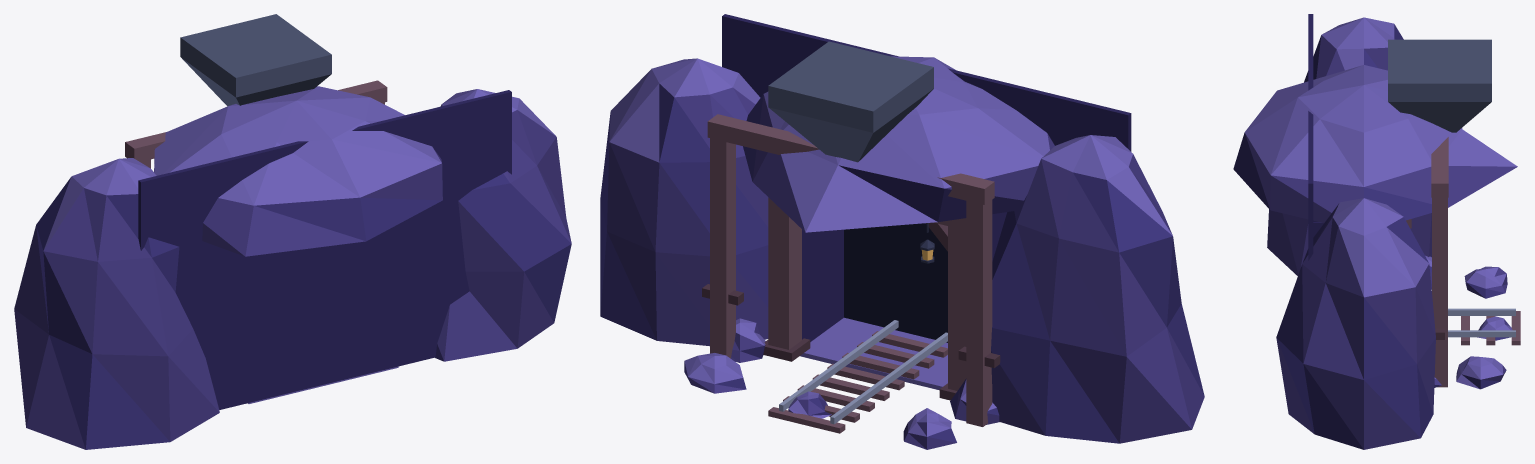
File: Mine_Door_Tunnel_Wide.obj
3 views of the same model, side by side, from view 1: azimuth 30°, elevation 25°; view 2: azimuth 150°, elevation 25°; view 3: azimuth 270°, elevation 25° (orthographic). The views are drawn at different scales.
Visible parts, largest first — view 1: Mine_Door_Tunnel_Wide; view 2: Mine_Door_Tunnel_Wide; view 3: Mine_Door_Tunnel_Wide.
Boxes of the visible parts, bbox=[...] form: Mine_Door_Tunnel_Wide: bbox=[14, 14, 571, 449]; Mine_Door_Tunnel_Wide: bbox=[600, 14, 1204, 449]; Mine_Door_Tunnel_Wide: bbox=[1233, 14, 1520, 449].
Bounding box in the file's own units: 11.54 × 5.93 × 5.67.
